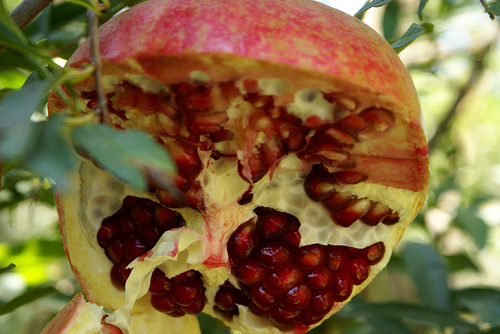pomogranate: (48, 2, 431, 333)
